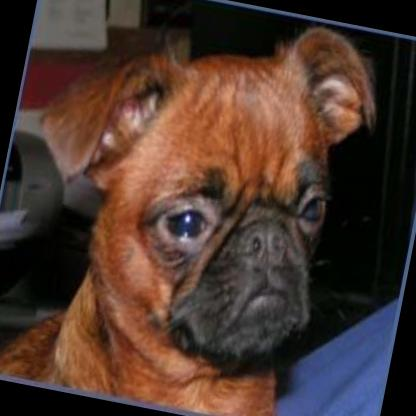Brabancon_griffon: (0, 0, 391, 416)
